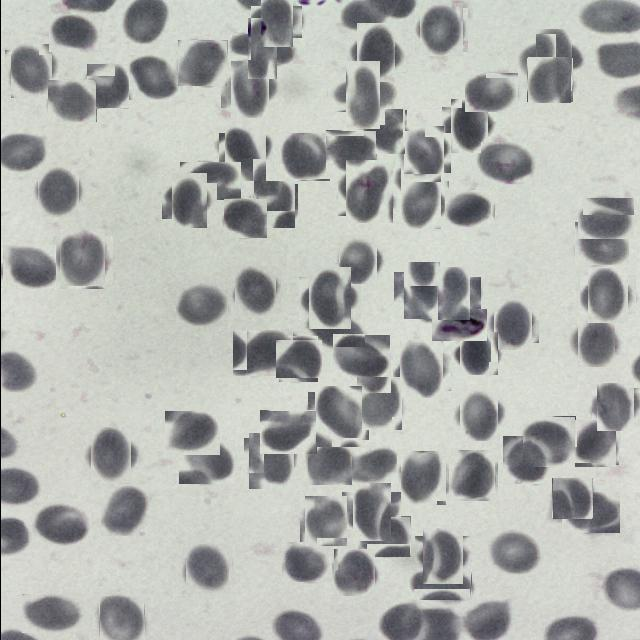red blood cell: (341, 164, 396, 220), (310, 389, 364, 444), (232, 329, 293, 376), (55, 232, 108, 286), (303, 272, 355, 324), (522, 416, 575, 467), (336, 69, 387, 121), (100, 483, 150, 536), (31, 502, 91, 546), (332, 334, 390, 378), (259, 410, 316, 454), (396, 344, 446, 394), (354, 378, 404, 428), (246, 436, 296, 486), (398, 453, 448, 503), (178, 440, 234, 484), (279, 132, 328, 182), (487, 530, 542, 574), (164, 411, 219, 455), (21, 594, 83, 633), (351, 28, 400, 77), (447, 451, 496, 500), (528, 36, 578, 84), (577, 197, 634, 239), (561, 492, 619, 533), (0, 245, 54, 289), (416, 6, 465, 54), (418, 532, 466, 581), (128, 55, 180, 100), (574, 222, 628, 265), (179, 162, 240, 200), (398, 129, 446, 177), (396, 177, 444, 225), (6, 47, 54, 95), (583, 271, 631, 319), (225, 65, 273, 113), (502, 436, 550, 484), (221, 130, 269, 178), (346, 488, 394, 536), (177, 40, 227, 86), (86, 432, 134, 479), (175, 283, 227, 326), (34, 167, 81, 214), (398, 268, 446, 314), (325, 130, 376, 173), (357, 516, 410, 557), (183, 545, 229, 592), (464, 72, 518, 112), (446, 102, 492, 148), (454, 392, 500, 438), (232, 268, 278, 314), (302, 498, 348, 544), (238, 26, 284, 72), (47, 79, 96, 122), (480, 142, 530, 184), (166, 178, 211, 224), (526, 58, 572, 103), (413, 565, 471, 600), (99, 595, 144, 640), (332, 550, 376, 596), (48, 14, 101, 52), (281, 542, 331, 582), (444, 189, 495, 227), (307, 313, 364, 347), (342, 448, 399, 482), (490, 302, 534, 346), (335, 237, 379, 281), (574, 319, 618, 363), (85, 64, 129, 108), (361, 109, 405, 153), (572, 422, 616, 466), (252, 183, 296, 227), (307, 442, 351, 485), (461, 601, 509, 640), (594, 386, 636, 428), (276, 338, 318, 380), (432, 272, 474, 314), (223, 198, 267, 238), (551, 478, 592, 519), (457, 333, 499, 373), (254, 2, 296, 42)
trophozoite: (431, 309, 486, 341)
